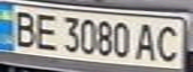0: (112, 19, 133, 60), (78, 16, 96, 55)
3: (57, 15, 81, 54)
8: (93, 18, 115, 57)
A: (133, 20, 160, 62)
B: (6, 8, 39, 48)
C: (151, 21, 184, 63)
E: (30, 11, 60, 52)
